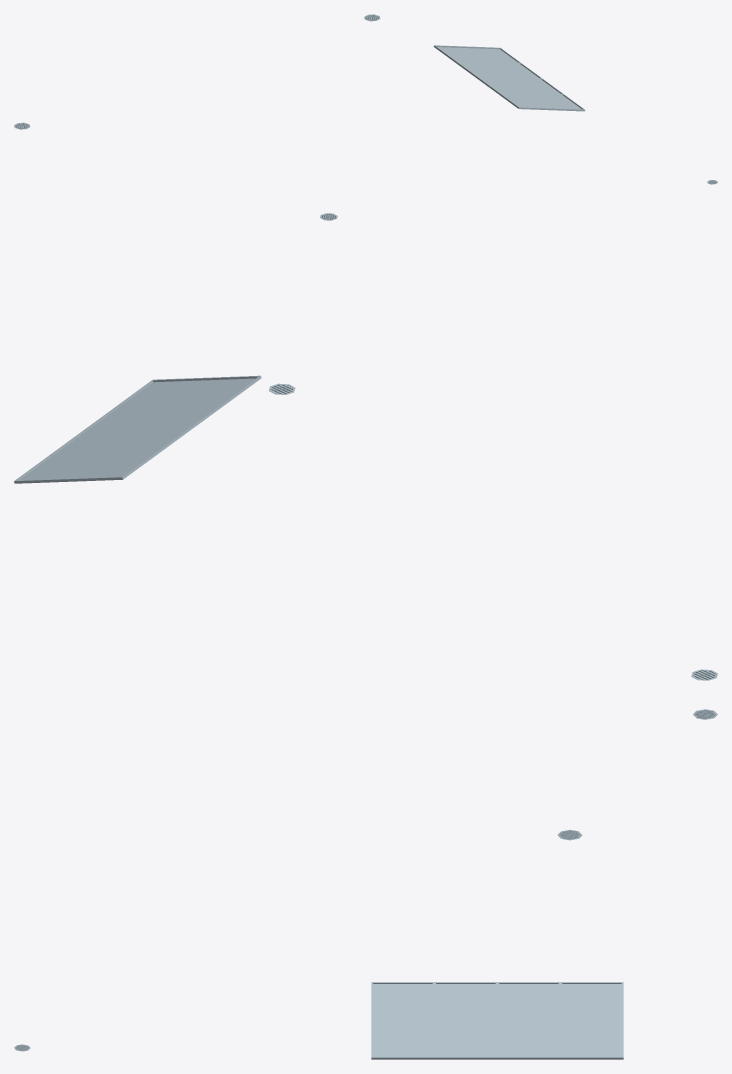
File: kd_stage_135ded_4_71.glb
The picture shows the model from 3 angles, top to bottom: view 1: azimuth 30°, elevation 25°; view 2: azimuth 150°, elevation 25°; view 3: azimuth 270°, elevation 25°; orthographic projection. The views are drawn at different scales.
Visible parts, largest first — view 1: kd_stage_135ded_4_71; view 2: kd_stage_135ded_4_71; view 3: kd_stage_135ded_4_71.
Part boxes in pixels (box(x1,y1,x2,y2)): kd_stage_135ded_4_71: box(14, 14, 717, 184); kd_stage_135ded_4_71: box(14, 213, 717, 680); kd_stage_135ded_4_71: box(14, 709, 717, 1059).
Bounding box in the file's own units: 9.63 × 1.56 × 8.37.
1 material, 1 textured.
